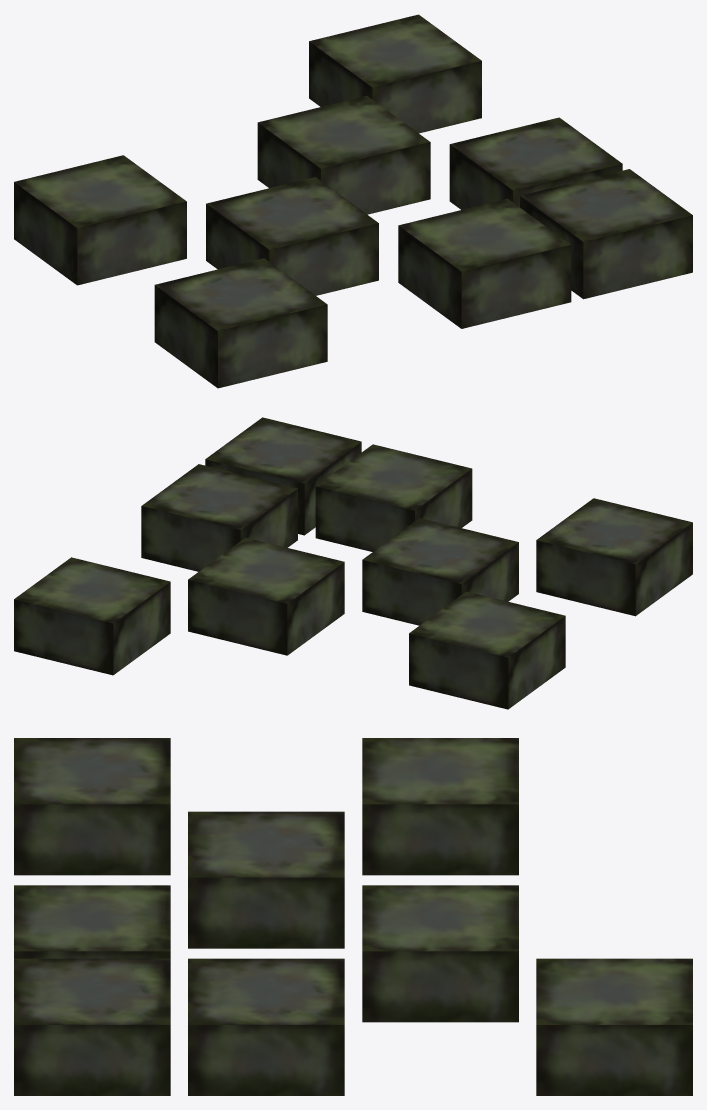
Rendered from cobblestone-02.fbx.
3 renders of one model, top to bottom at view 1: azimuth 30°, elevation 25°; view 2: azimuth 150°, elevation 25°; view 3: azimuth 270°, elevation 25°, orthographic. The views are drawn at different scales.
Parts seen in each view (by area): view 1: cobblestone_2; view 2: cobblestone_2; view 3: cobblestone_2.
Part boxes in pixels (box(x1,y1,x2,y2)): cobblestone_2: box(14, 14, 692, 388); cobblestone_2: box(14, 417, 692, 709); cobblestone_2: box(14, 738, 692, 1095).
Size of the model in its own units: 390 by 44.98 by 390.
